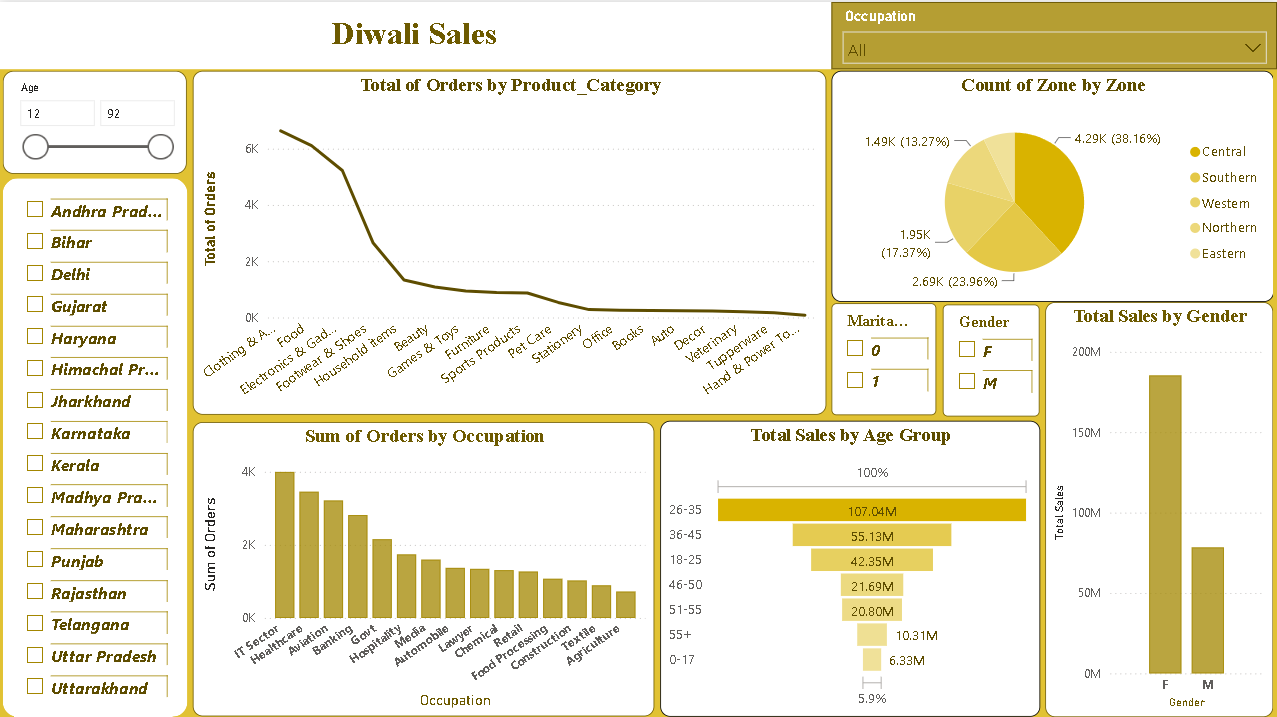

The dashboard page shown, as its layout file describes it:
{"tool":"powerbi","page":{"name":"Page 1","canvas":[1280,720],"ordinal":0},"visuals":[{"type":"shape","box":[0,0,1280.3,67.2],"z":0},{"type":"group","id":"g1","title":"Group 1","box":[4.3,175.7,184.7,538.8],"z":1000},{"type":"shape","box":[4.3,175.7,184.7,538.8],"z":1000,"group":"g1"},{"type":"lineChart","fields":{"Y":["Sum(Diwali_ Sales_Data.Orders)"],"Category":["Diwali_ Sales_Data.Product_Category"]},"box":[193.8,68.8,633.8,343.8],"z":2000},{"type":"slicer","fields":{"Values":["Diwali_ Sales_Data.State"]},"box":[15.7,185.7,158.6,528.6],"z":2000,"group":"g1"},{"type":"pieChart","fields":{"Category":["Diwali_ Sales_Data.Zone"],"Y":["CountNonNull(Diwali_ Sales_Data.Zone)"]},"box":[832.4,68.8,442.4,231.2],"z":3000},{"type":"textbox","box":[3.8,7.5,823.8,53.8],"z":3250},{"type":"slicer","fields":{"Values":["Diwali_ Sales_Data.Gender"]},"box":[944,302,97,112],"z":4000},{"type":"slicer","fields":{"Values":["Diwali_ Sales_Data.Occupation"]},"box":[832.5,0,446.2,67.5],"z":5000},{"type":"slicer","fields":{"Values":["Diwali_ Sales_Data.Marital_Status"]},"box":[832.4,301.8,104.7,112.4],"z":6000},{"type":"columnChart","fields":{"Category":["Diwali_ Sales_Data.Gender"],"Y":["Diwali_ Sales_Data.Total Sales"]},"box":[1046.8,300,228,415.2],"z":7000},{"type":"funnel","fields":{"Category":["Diwali_ Sales_Data.Age Group"],"Y":["Diwali_ Sales_Data.Total Sales"]},"box":[660.8,419.2,380,296.2],"z":8000},{"type":"clusteredColumnChart","fields":{"Category":["Diwali_ Sales_Data.Occupation"],"Y":["Sum(Diwali_ Sales_Data.Orders)"]},"box":[194.3,419.5,461.9,294.8],"z":9000},{"type":"slicer","fields":{"Values":["Diwali_ Sales_Data.Age"]},"box":[4.3,68.6,184.3,102.9],"z":10000}]}

Visuals, with their boxes in screenshot pixels (x1, y1, x2, y2), scaled from the page's 1280x720 canvas onto the 1277x717 screenshot:
shape: select_region(0, 0, 1276, 67)
"Group 1" group: select_region(4, 175, 189, 712)
shape: select_region(4, 175, 189, 712)
lineChart - Sum(Diwali_ Sales_Data.Orders) x Diwali_ Sales_Data.Product_Category: select_region(193, 69, 826, 411)
slicer - Diwali_ Sales_Data.State: select_region(16, 185, 174, 711)
pieChart - Diwali_ Sales_Data.Zone x CountNonNull(Diwali_ Sales_Data.Zone): select_region(830, 69, 1272, 299)
textbox: select_region(4, 7, 826, 61)
slicer - Diwali_ Sales_Data.Gender: select_region(942, 301, 1039, 412)
slicer - Diwali_ Sales_Data.Occupation: select_region(831, 0, 1276, 67)
slicer - Diwali_ Sales_Data.Marital_Status: select_region(830, 301, 935, 412)
columnChart - Diwali_ Sales_Data.Gender x Diwali_ Sales_Data.Total Sales: select_region(1044, 299, 1272, 712)
funnel - Diwali_ Sales_Data.Age Group x Diwali_ Sales_Data.Total Sales: select_region(659, 417, 1038, 712)
clusteredColumnChart - Diwali_ Sales_Data.Occupation x Sum(Diwali_ Sales_Data.Orders): select_region(194, 418, 655, 711)
slicer - Diwali_ Sales_Data.Age: select_region(4, 68, 188, 171)
